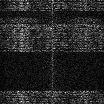wifi: (1, 24, 104, 51), (1, 90, 104, 104), (1, 1, 104, 10), (1, 17, 104, 24)
